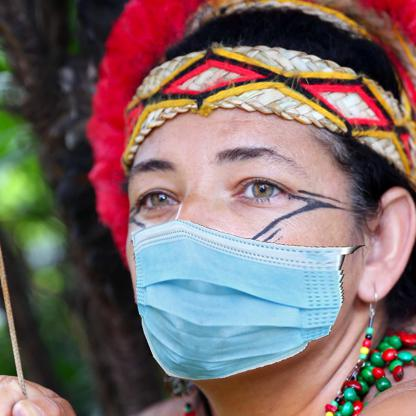mask: (130, 219, 338, 382)
